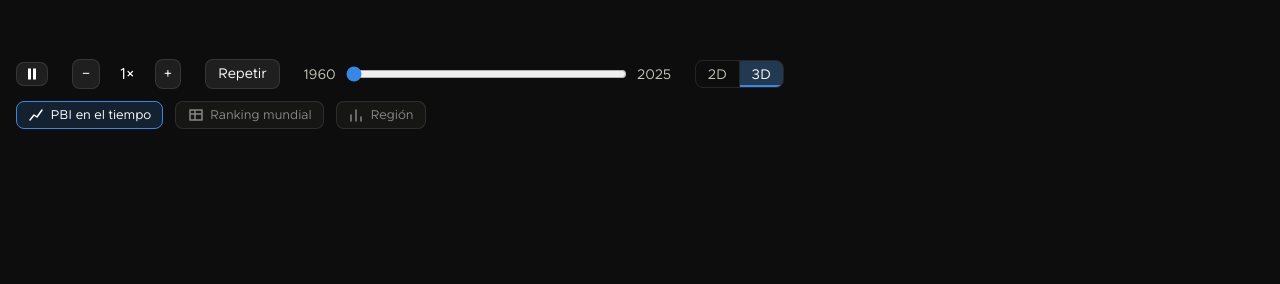
Test: step 0 of the Recorrido › has a play / pause button in the controls: it starts playing, pauses, plays again, and stops when the timeline is dragged
Click the button named "Pausar" at (32, 74), box [16, 62, 48, 86]
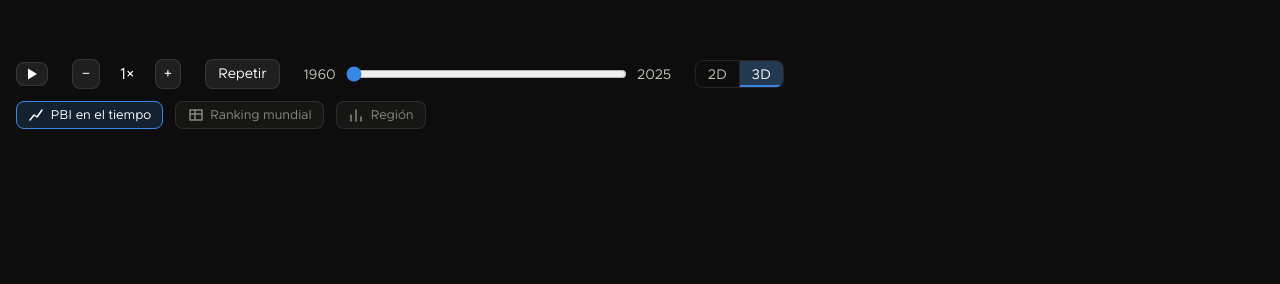
Now the button named "Reproducir" is shown
Click the button named "Reproducir" at (32, 74), box [16, 62, 48, 86]
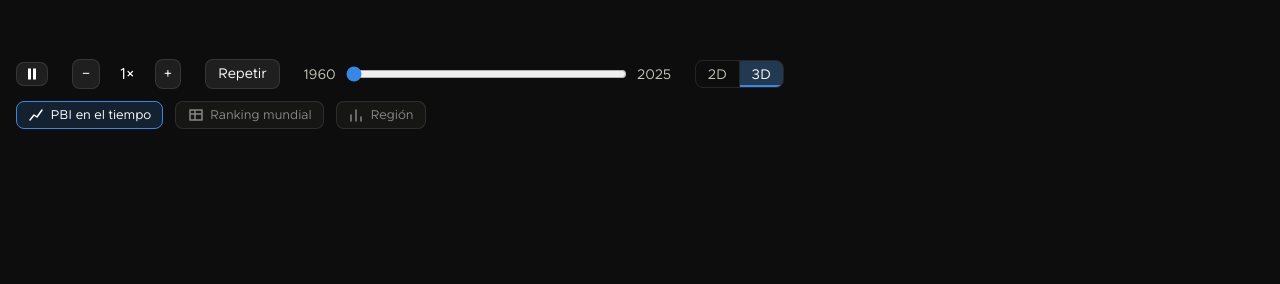
Now the button named "Pausar" is shown, box [16, 62, 48, 86]
Set the slider named "Línea de tiempo" to "1990" at (476, 74), box [346, 66, 627, 82]
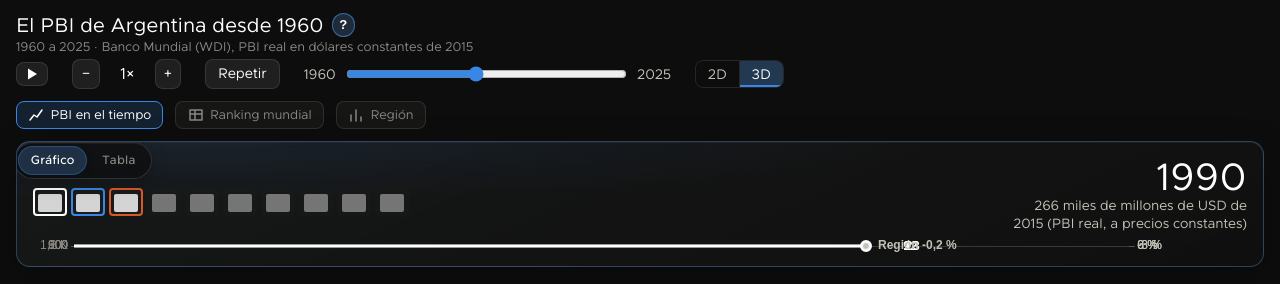
Now the button named "Reproducir" is shown, box [16, 62, 48, 86]
